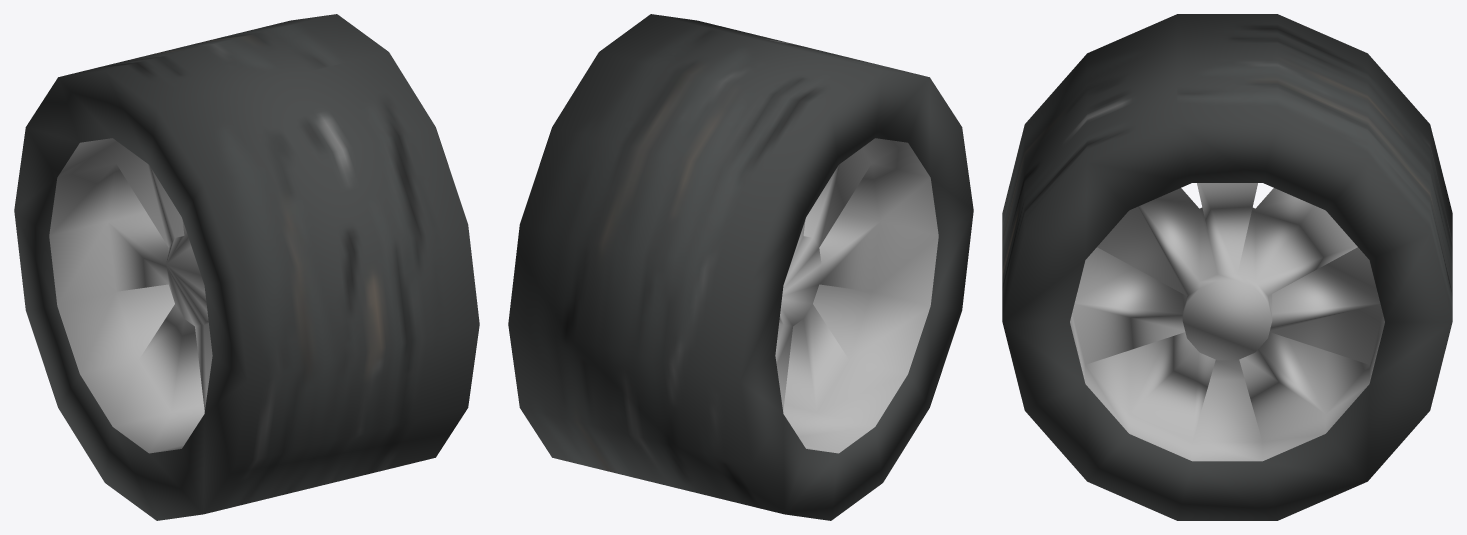
File: Wheel.fbx
3 renders of one model, left to right at view 1: azimuth 30°, elevation 25°; view 2: azimuth 150°, elevation 25°; view 3: azimuth 270°, elevation 25°, orthographic. The views are drawn at different scales.
Visible parts, largest first — view 1: wheel; view 2: wheel; view 3: wheel.
Boxes of the visible parts, x1,y1,x2,y2 form: wheel: [14, 14, 479, 520]; wheel: [508, 14, 973, 520]; wheel: [1002, 14, 1452, 520].
Bounding box in the file's own units: 0.5032 × 0.8539 × 0.8759.
